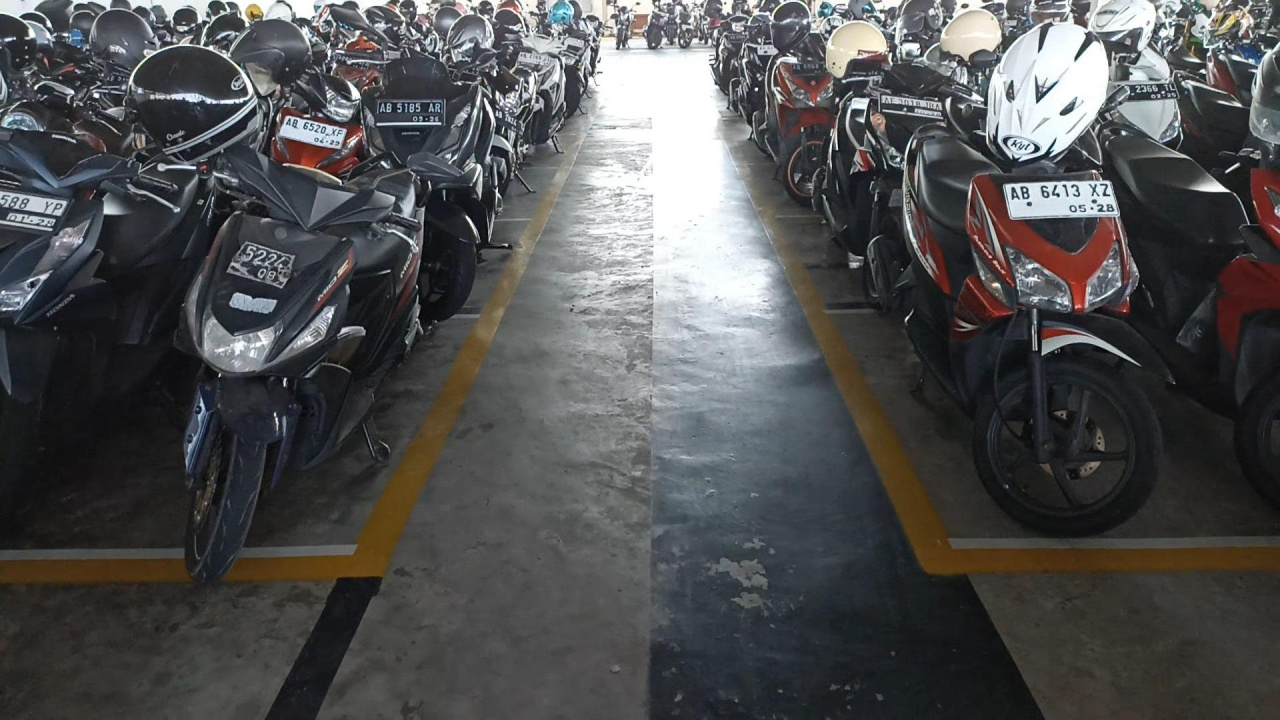plate: (1004, 181, 1120, 219), (229, 241, 293, 289), (278, 115, 347, 149), (376, 99, 445, 126), (880, 94, 945, 120)
